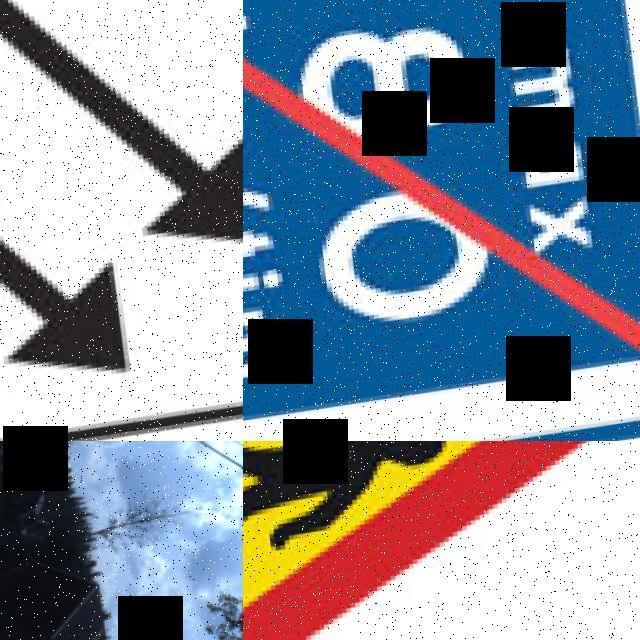132: (243, 441, 640, 640)
169: (0, 0, 243, 441)
end of the speed limit: (243, 0, 640, 441)
